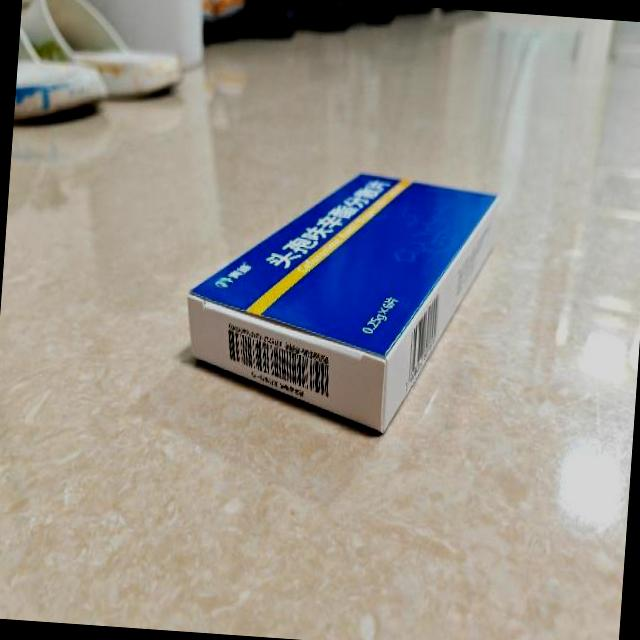box: (180, 160, 503, 443)
